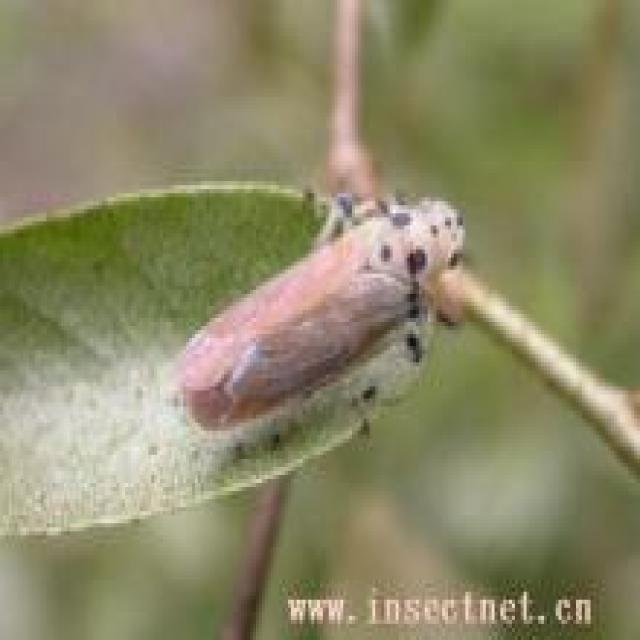Yechan: (156, 182, 483, 455)
